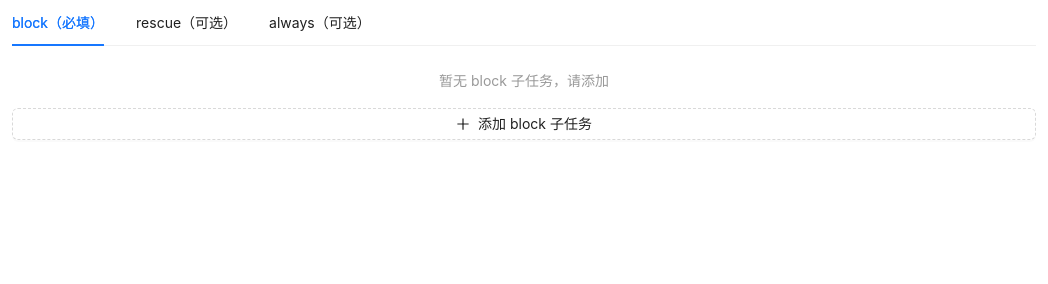
Test case: BlockTasksEditor › adds a new block child when button is clicked
The image size is (1048, 284).
Click the button "添加 block 子任务" at (524, 124), box 12,108 -> 1036,140
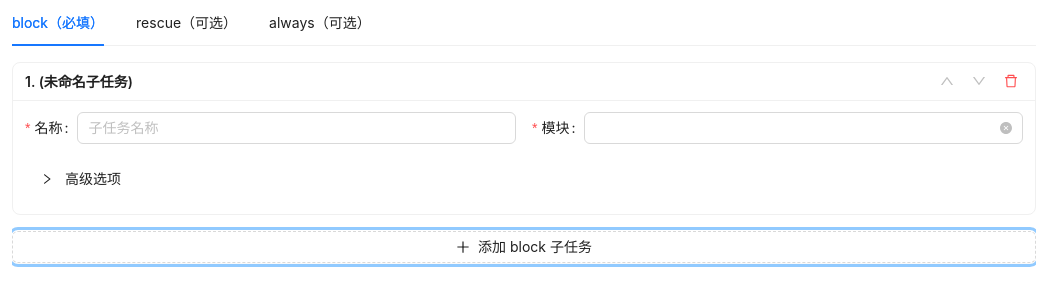
Result: the text "1. (未命名子任务)" is shown at 25,72 -> 133,90
